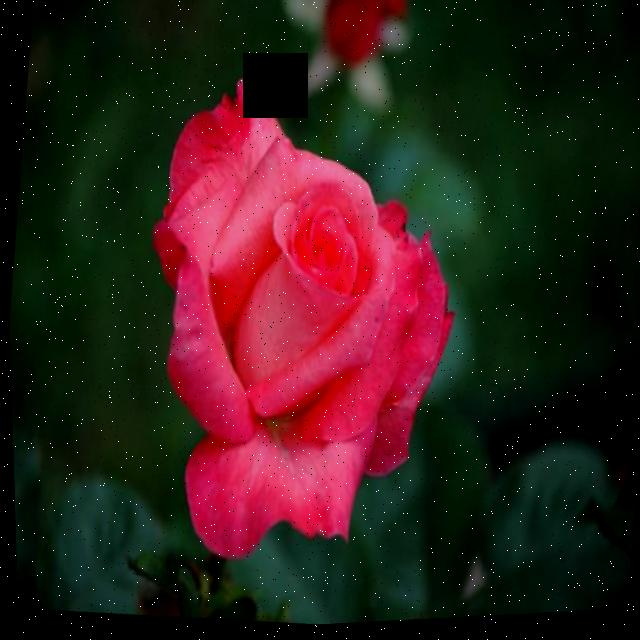rose: (111, 58, 488, 582)
